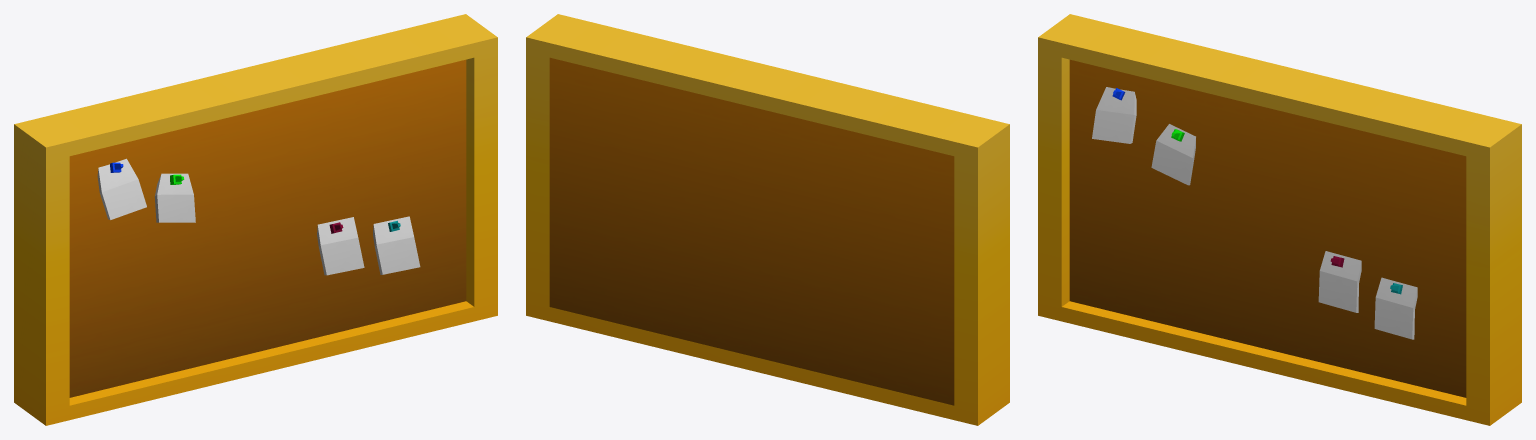
File: Tablero2.fbx
The picture shows the model from 3 angles, left to right: view 1: azimuth 30°, elevation 25°; view 2: azimuth 150°, elevation 25°; view 3: azimuth 330°, elevation 25°; orthographic projection.
Visible parts, largest first — view 1: Tablero2.001; view 2: Tablero2.001; view 3: Tablero2.001.
Part boxes in pixels (bbox=[...]): Tablero2.001: bbox=[14, 14, 497, 425]; Tablero2.001: bbox=[526, 14, 1009, 425]; Tablero2.001: bbox=[1038, 14, 1521, 425].
Size of the model in its own units: 4.44 by 2.61 by 0.6336.
1 material, 1 textured.
